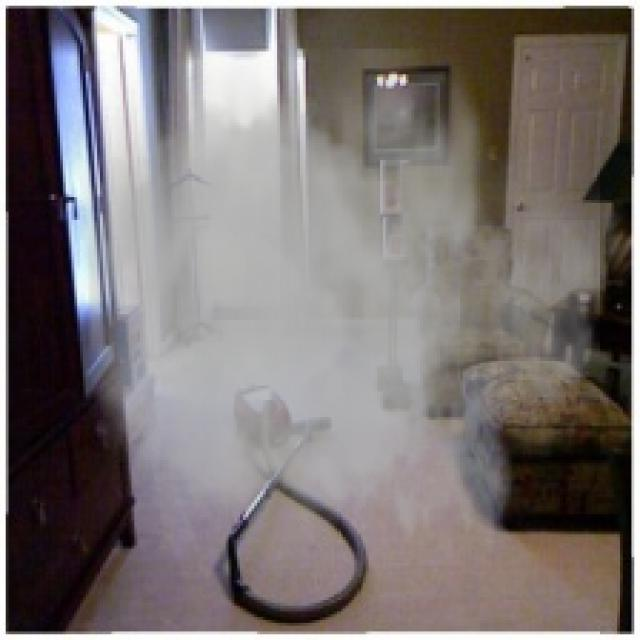smoke: (57, 48, 600, 603)
